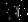person: (7, 7, 14, 20), (13, 7, 19, 19)
